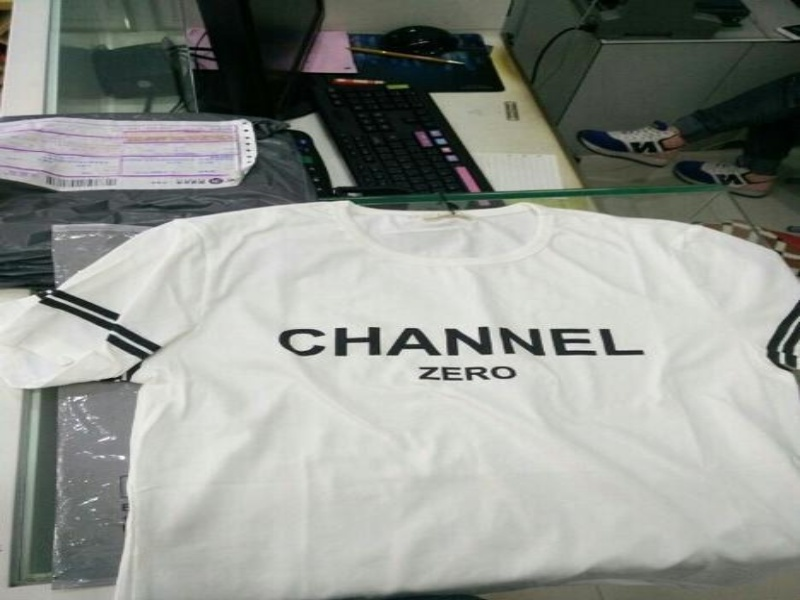short_sleeved_shirt: (0, 191, 798, 599)
